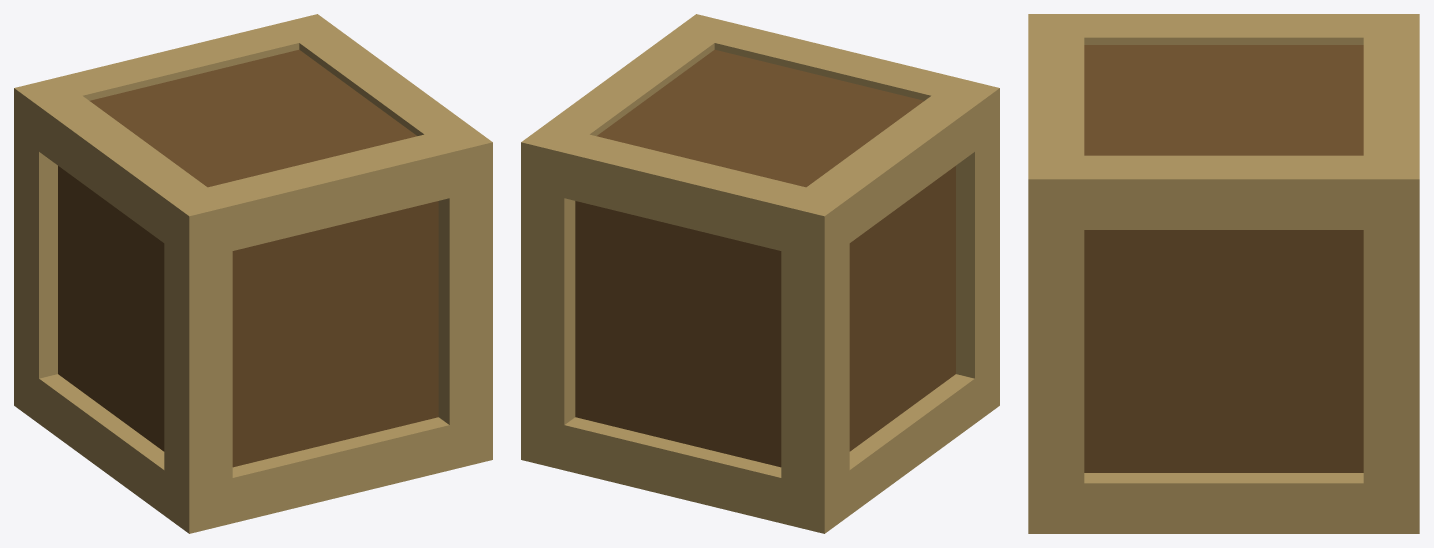
3 renders of one model, left to right at view 1: azimuth 30°, elevation 25°; view 2: azimuth 150°, elevation 25°; view 3: azimuth 270°, elevation 25°, orthographic. The views are drawn at different scales.
Visible parts, largest first — view 1: pCube44, pCube43; view 2: pCube44, pCube43; view 3: pCube44, pCube43.
Boxes of the visible parts, box(x1,y1,x2,y2) form: pCube44: box(14, 14, 492, 533); pCube43: box(58, 49, 438, 467); pCube44: box(521, 14, 999, 533); pCube43: box(575, 49, 955, 467); pCube44: box(1028, 14, 1419, 533); pCube43: box(1084, 45, 1363, 472).
Bounding box in the file's own units: 1 × 1 × 1.
